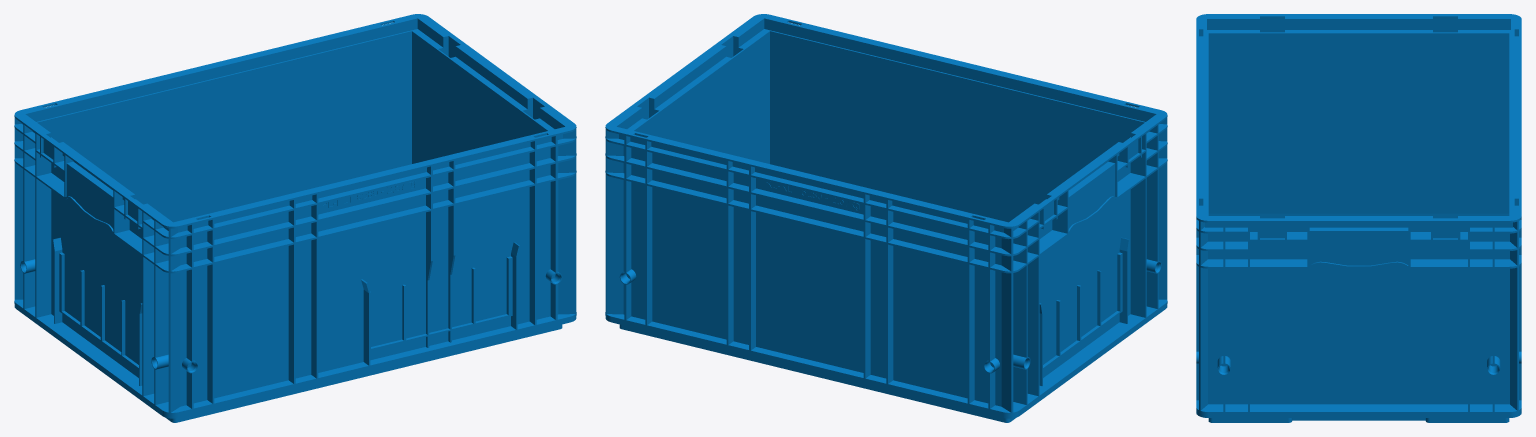
Rendered from KLT.fbx.
The picture shows the model from 3 angles, left to right: view 1: azimuth 30°, elevation 25°; view 2: azimuth 150°, elevation 25°; view 3: azimuth 270°, elevation 25°; orthographic projection. The views are drawn at different scales.
Visible parts, largest first — view 1: Těleso6; view 2: Těleso6; view 3: Těleso6.
Part boxes in pixels (x1,y1,x2,y2): Těleso6: [14, 14, 576, 422]; Těleso6: [605, 14, 1167, 422]; Těleso6: [1196, 14, 1521, 422].
Bounding box in the file's own units: 23.39 × 10.94 × 15.55.
